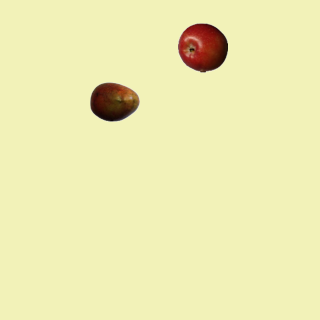Apple Braeburn: (177, 22, 227, 72)
Mango Red: (89, 76, 139, 126)
